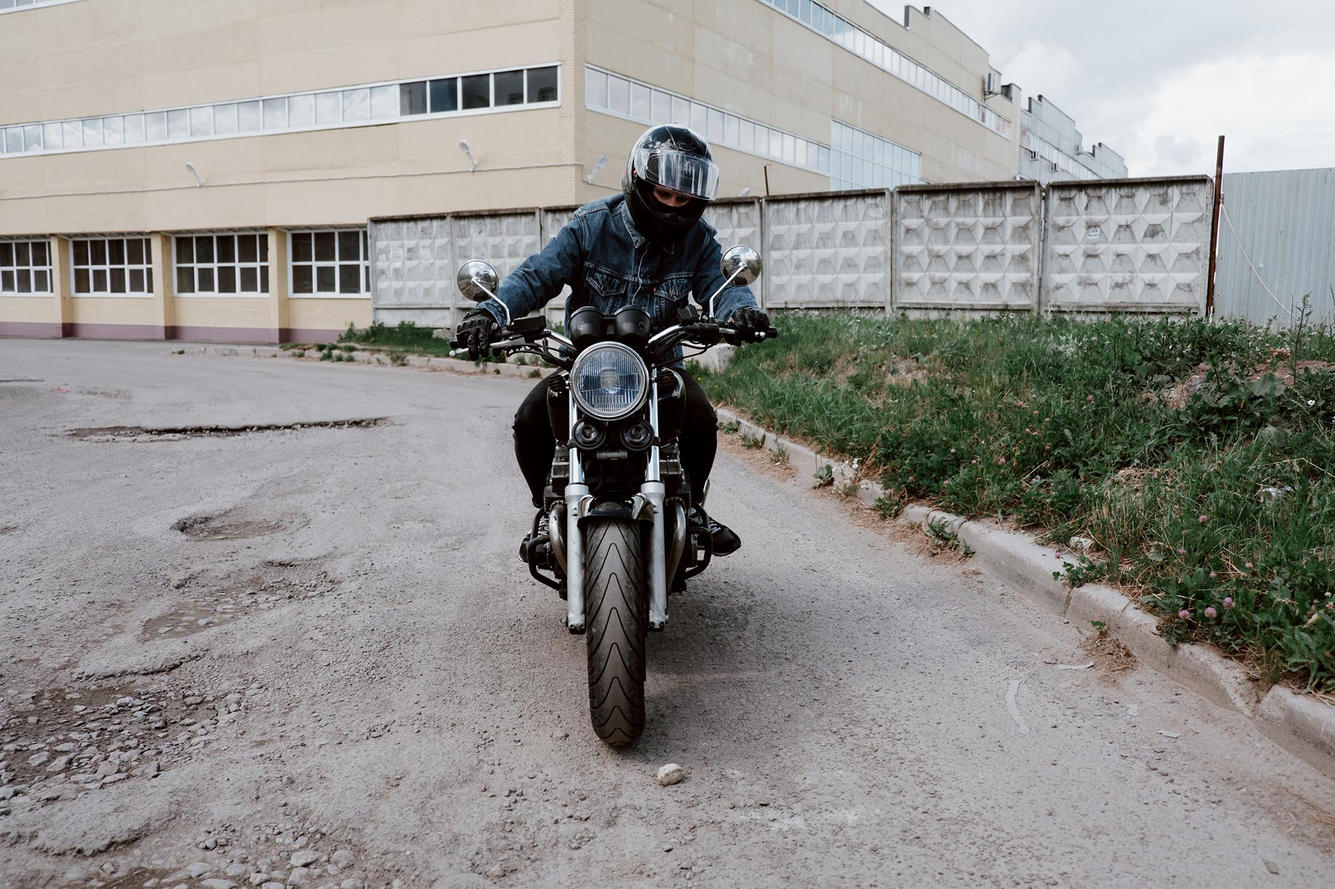helmet: (621, 122, 721, 246)
